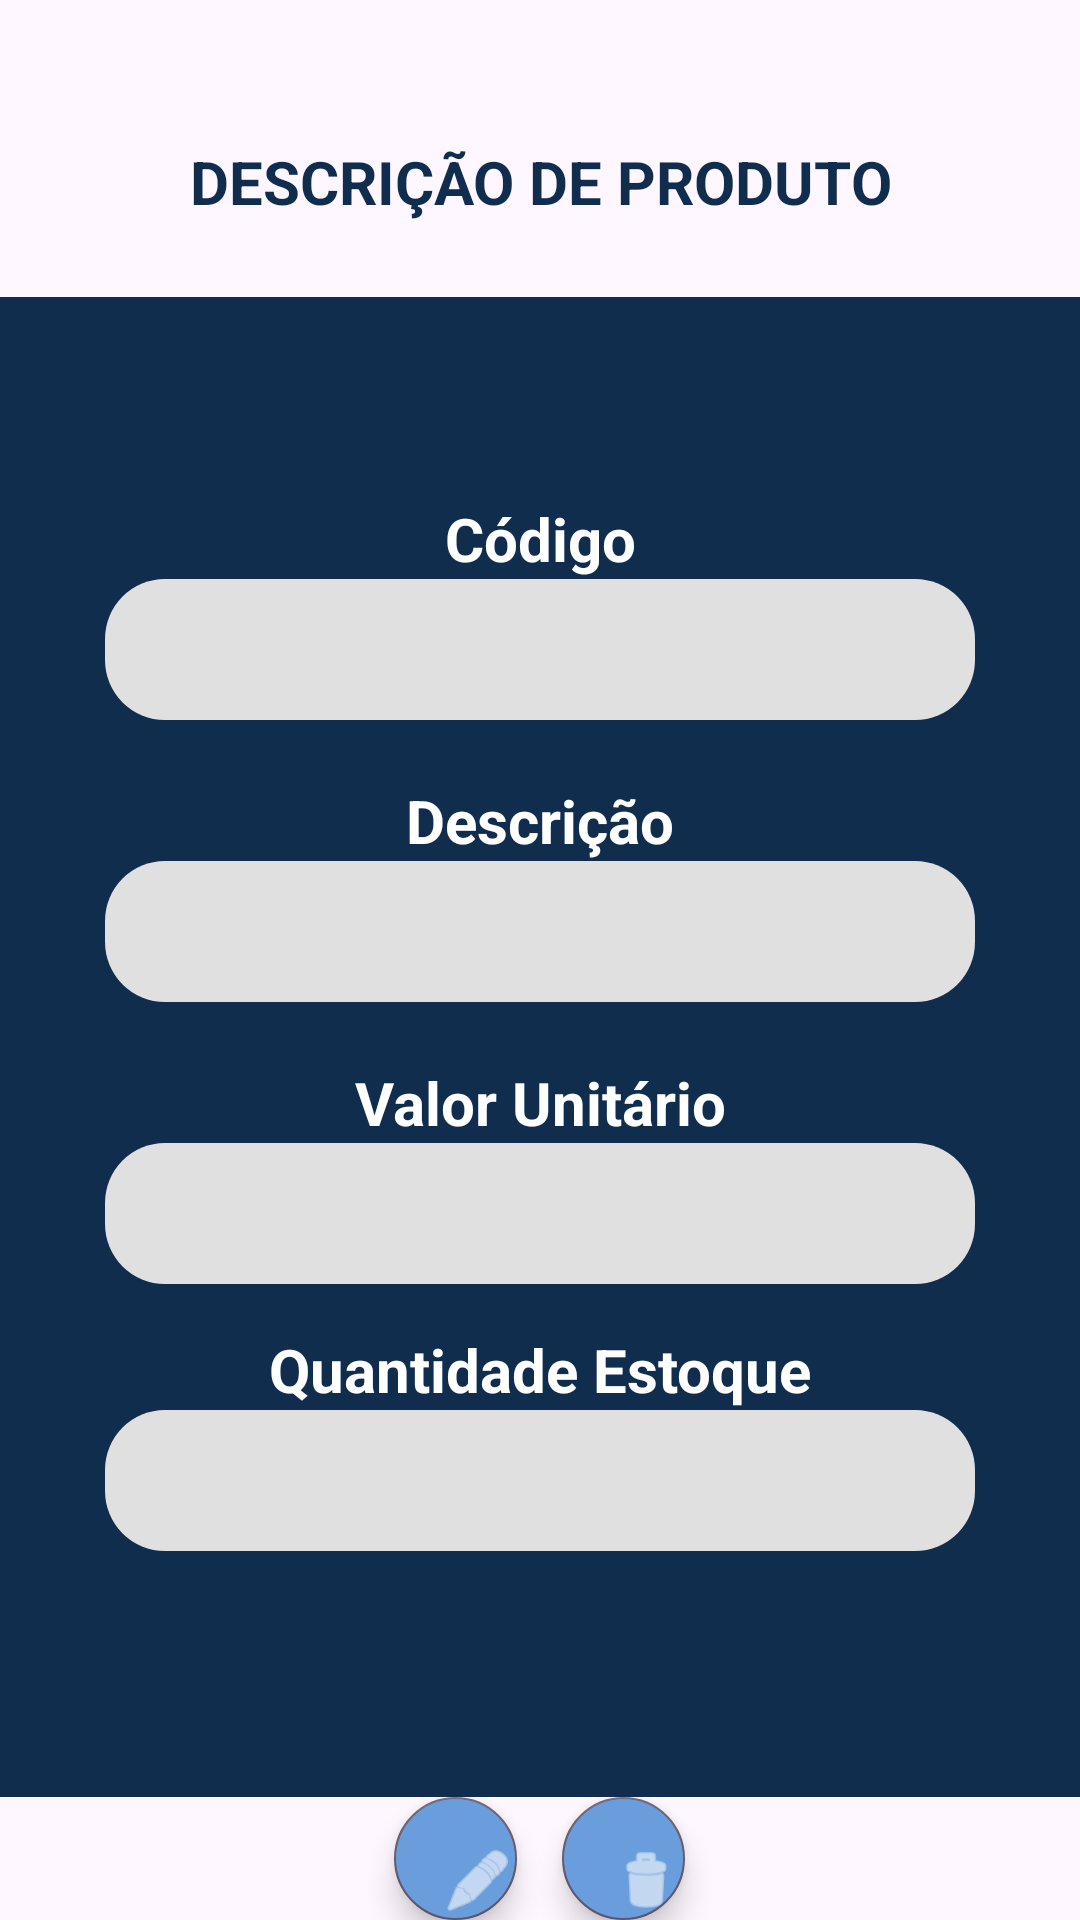

Screen size 1080w x 1920h. Icon name, then its center in pixels as (x,y):
delete: (623,1858)
edit: (455,1858)
